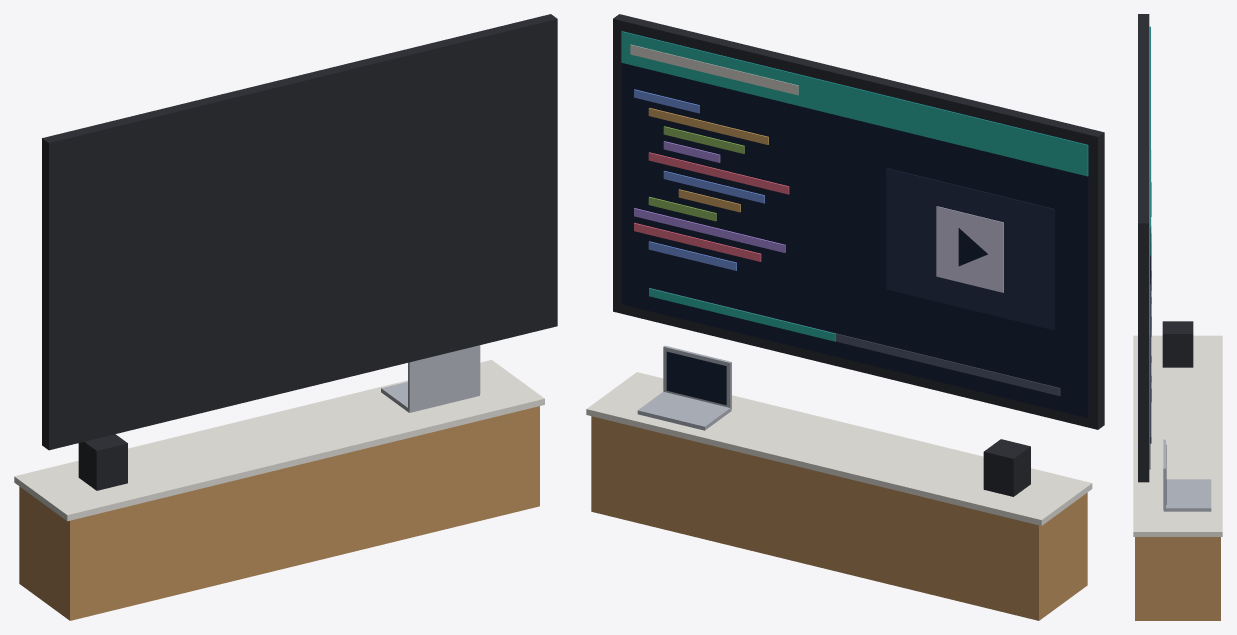
File: course-screen.glb
The picture shows the model from 3 angles, left to right: view 1: azimuth 30°, elevation 25°; view 2: azimuth 150°, elevation 25°; view 3: azimuth 270°, elevation 25°; orthographic projection. The views are drawn at different scales.
Parts seen in each view (by area): view 1: course-screen; view 2: course-screen; view 3: course-screen.
Boxes of the visible parts, x1,y1,x2,y2 form: course-screen: (14, 14, 557, 620); course-screen: (586, 14, 1104, 620); course-screen: (1133, 14, 1222, 620).
Size of the model in its own units: 2.6 by 2.35 by 0.47.
